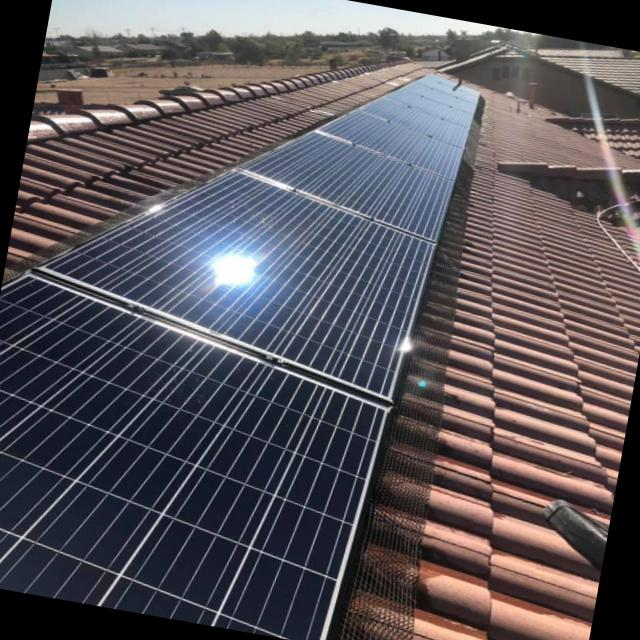no faulty: (0, 128, 454, 637)
